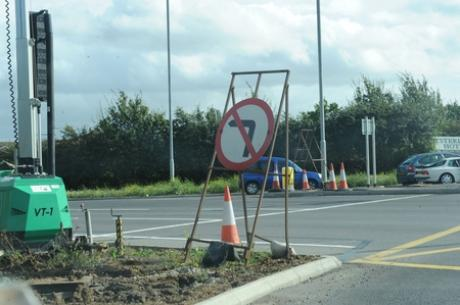No_left_turn: (215, 98, 275, 169)
